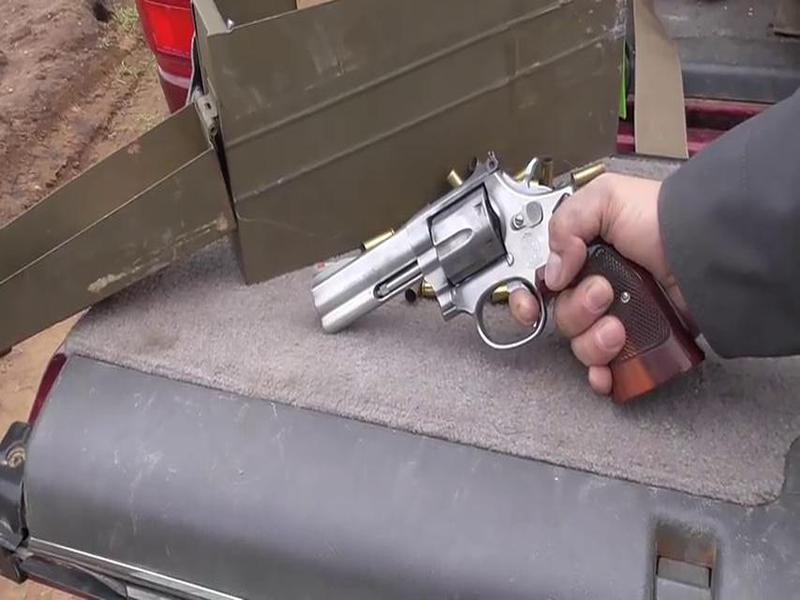Revolver: (304, 165, 612, 373)
